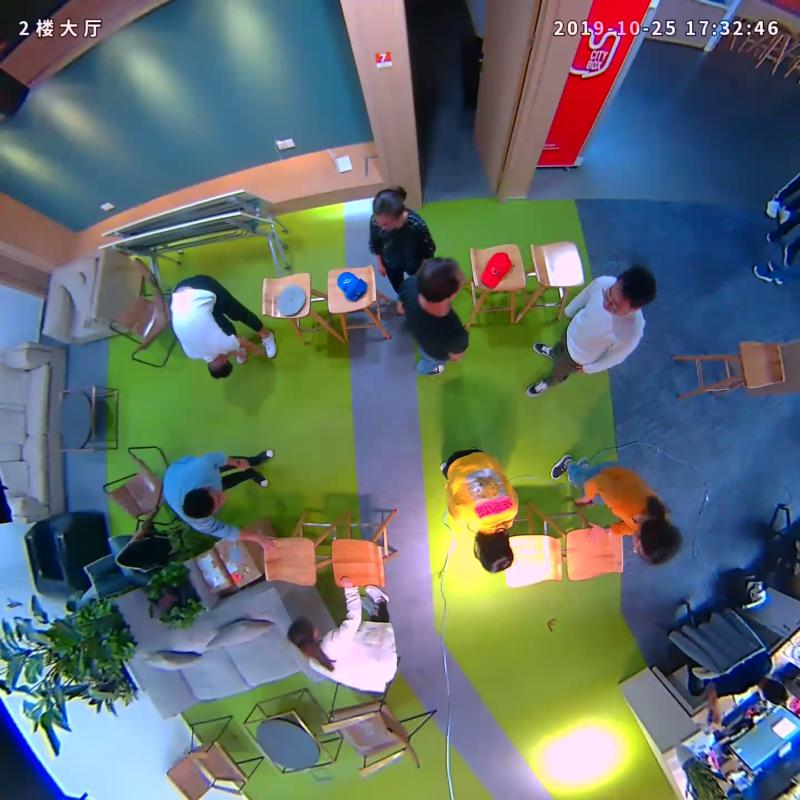head: (596, 259, 657, 318), (629, 514, 690, 570), (410, 250, 464, 309), (466, 528, 519, 576), (368, 182, 414, 233), (180, 483, 232, 523), (278, 612, 324, 650), (199, 352, 240, 384)
